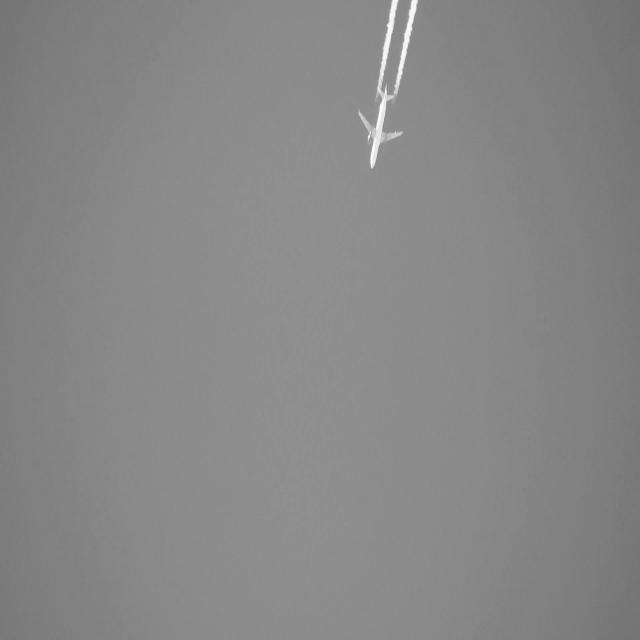aeroplane: (358, 85, 404, 175)
